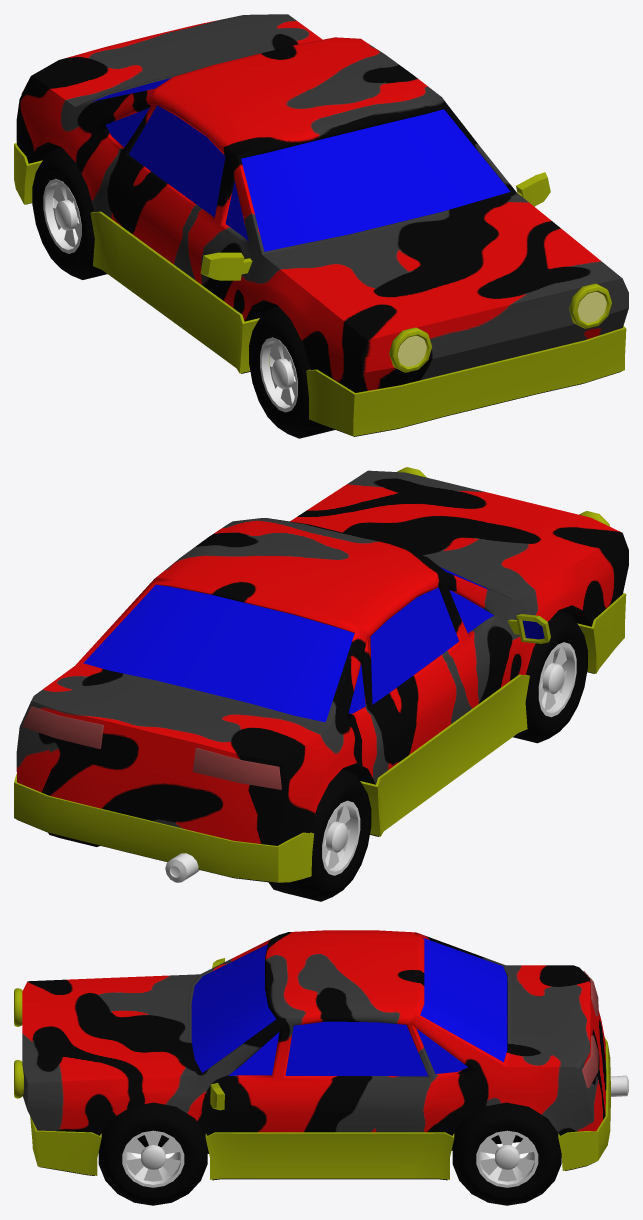
File: Muscle Evolution1 Kaki ArmyBlackRed Blue White.gltf
3 views of the same model, one above another, from view 1: azimuth 30°, elevation 25°; view 2: azimuth 150°, elevation 25°; view 3: azimuth 270°, elevation 25° (orthographic). The views are drawn at different scales.
Visible parts, largest first — view 1: evo1_body4_f1_dupl, evo1_sill0_f1_dupl, evo1_frontGlass_f1_dupl, evo1_glasseBigR_f1_dupl, evo1_tire_rf_f1_dupl, evo1_tire_rf1_f1_dupl, evo1_rim_A_rb_f1_dupl, evo1_rim_A_rf_f1_dupl, evo1_mirorR3_f1_dupl, evo1_blockLightR_f1_dupl, evo1_blockLightL_f1_dupl, evo1_mirorL3_f1_dupl (+4 smaller); view 2: evo1_body4_f1_dupl, evo1_sill0_f1_dupl, evo1_BackGlassGlass_f1_dupl, evo1_glasseBigR_f1_dupl, evo1_tire_rf_f1_dupl, evo1_tire_rf1_f1_dupl, evo1_rim_A_rf_f1_dupl, evo1_rim_A_rb_f1_dupl, evo1_redlightR2_f1_dupl, evo1_redlightL2_f1_dupl, evo1_glassfR_f1_dupl, evo1_pipe1_f1_dupl (+1 smaller); view 3: evo1_body4_f1_dupl, evo1_sill0_f1_dupl, evo1_BackGlassGlass_f1_dupl, evo1_glasseBigL_f1_dupl, evo1_frontGlass_f1_dupl, evo1_tire_lb_f1_dupl, evo1_tire_lf_f1_dupl, evo1_rim_A_lf_f1_dupl, evo1_rim_A_lb_f1_dupl, evo1_glassfL_f1_dupl, evo1_glassbL_f1_dupl, evo1_GroundBody_f1_dupl (+1 smaller).
Part boxes in pixels (x1=…): evo1_body4_f1_dupl: x1=16, y1=14, x2=628, y2=392; evo1_sill0_f1_dupl: x1=14, y1=143, x2=626, y2=436; evo1_frontGlass_f1_dupl: x1=241, y1=109, x2=510, y2=251; evo1_glasseBigR_f1_dupl: x1=128, y1=105, x2=225, y2=217; evo1_tire_rf_f1_dupl: x1=32, y1=147, x2=107, y2=279; evo1_tire_rf1_f1_dupl: x1=249, y1=306, x2=334, y2=438; evo1_rim_A_rb_f1_dupl: x1=43, y1=179, x2=81, y2=253; evo1_rim_A_rf_f1_dupl: x1=260, y1=337, x2=297, y2=412; evo1_mirorR3_f1_dupl: x1=200, y1=252, x2=252, y2=280; evo1_blockLightR_f1_dupl: x1=389, y1=327, x2=432, y2=372; evo1_blockLightL_f1_dupl: x1=569, y1=283, x2=612, y2=328; evo1_mirorL3_f1_dupl: x1=516, y1=172, x2=550, y2=206; evo1_body4_f1_dupl: x1=16, y1=470, x2=628, y2=845; evo1_sill0_f1_dupl: x1=14, y1=593, x2=626, y2=882; evo1_BackGlassGlass_f1_dupl: x1=83, y1=584, x2=354, y2=722; evo1_glasseBigR_f1_dupl: x1=370, y1=587, x2=458, y2=704; evo1_tire_rf_f1_dupl: x1=268, y1=769, x2=371, y2=901; evo1_tire_rf1_f1_dupl: x1=513, y1=610, x2=587, y2=743; evo1_rim_A_rf_f1_dupl: x1=538, y1=642, x2=576, y2=717; evo1_rim_A_rb_f1_dupl: x1=322, y1=800, x2=360, y2=875; evo1_redlightR2_f1_dupl: x1=192, y1=748, x2=281, y2=789; evo1_redlightL2_f1_dupl: x1=22, y1=706, x2=103, y2=748; evo1_glassfR_f1_dupl: x1=449, y1=590, x2=493, y2=632; evo1_pipe1_f1_dupl: x1=165, y1=853, x2=199, y2=882; evo1_body4_f1_dupl: x1=22, y1=930, x2=606, y2=1152; evo1_sill0_f1_dupl: x1=30, y1=1037, x2=610, y2=1179; evo1_BackGlassGlass_f1_dupl: x1=420, y1=937, x2=507, y2=1061; evo1_glasseBigL_f1_dupl: x1=285, y1=1021, x2=427, y2=1076; evo1_frontGlass_f1_dupl: x1=191, y1=944, x2=276, y2=1073; evo1_tire_lb_f1_dupl: x1=452, y1=1102, x2=561, y2=1205; evo1_tire_lf_f1_dupl: x1=98, y1=1102, x2=207, y2=1205; evo1_rim_A_lf_f1_dupl: x1=122, y1=1130, x2=184, y2=1187; evo1_rim_A_lb_f1_dupl: x1=476, y1=1130, x2=538, y2=1187; evo1_glassfL_f1_dupl: x1=228, y1=1032, x2=279, y2=1075; evo1_glassbL_f1_dupl: x1=416, y1=1028, x2=467, y2=1073; evo1_GroundBody_f1_dupl: x1=40, y1=1140, x2=594, y2=1180.
Size of the model in its own units: 177 by 112 by 331.
Materials: 7 (1 with a texture image).
